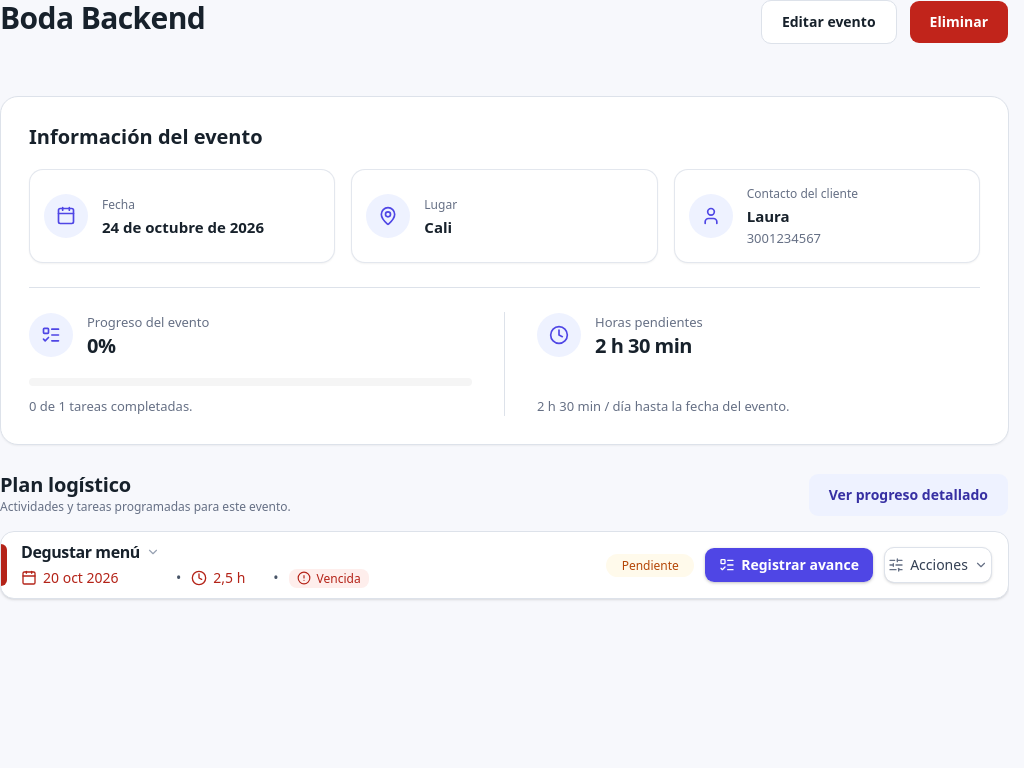
Scenario: EventDetailContent › abre el diálogo de Registrar avance directamente al hacer clic en su acción (CA-02)
The width and height of the screenshot is (1024, 768).
Click the button with aria-label "Registrar avance de Degustar menú" at (789, 565), box [704, 547, 874, 583]
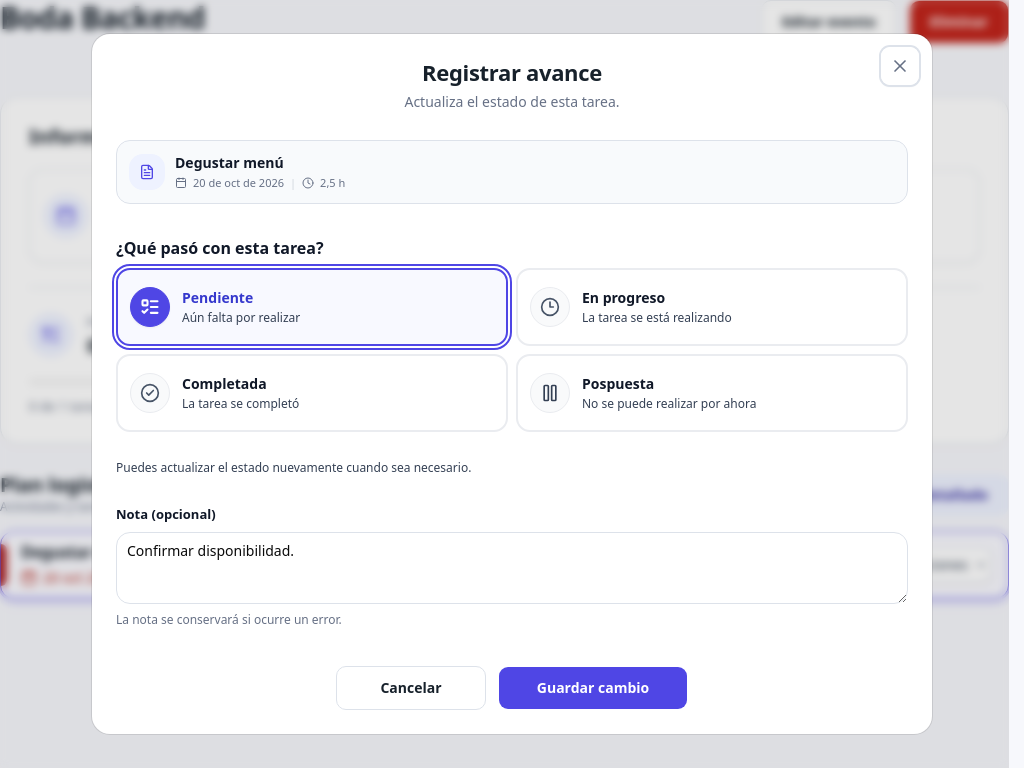
Now the heading "Registrar avance" is shown, box [422, 57, 602, 87]
